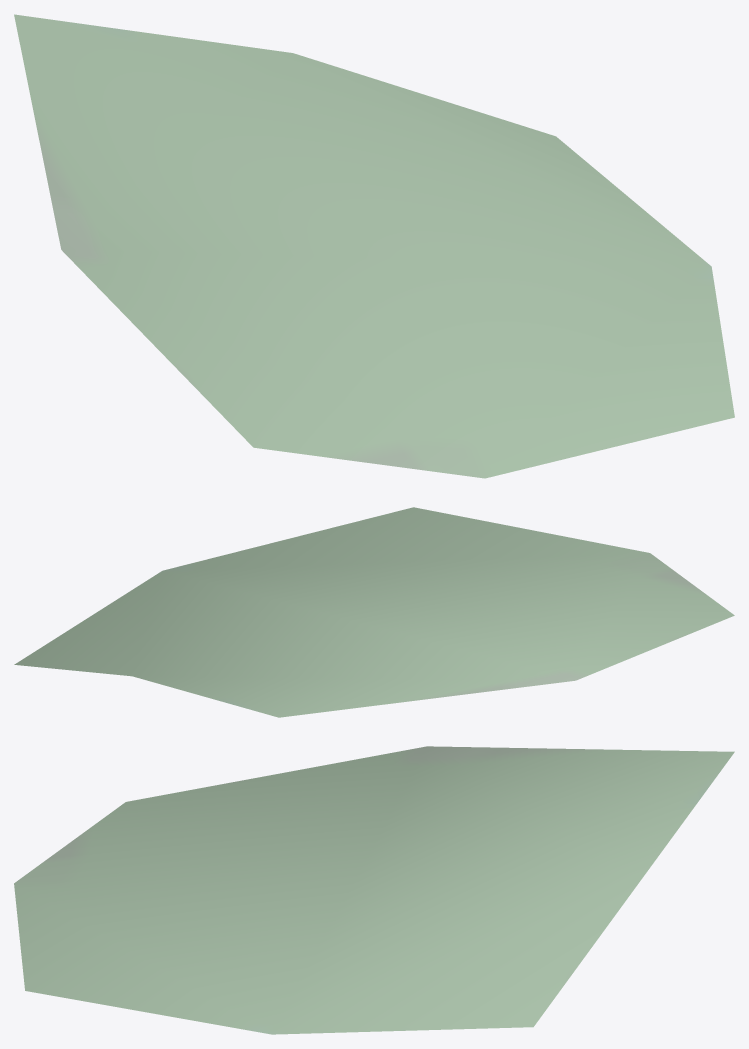
File: TROLLHOLE02_HOLECAP15.fbx
3 views of the same model, one above another, from view 1: azimuth 30°, elevation 25°; view 2: azimuth 150°, elevation 25°; view 3: azimuth 270°, elevation 25° (orthographic). The views are drawn at different scales.
Parts seen in each view (by area): view 1: TROLLHOLE02_HOLECAP15; view 2: TROLLHOLE02_HOLECAP15; view 3: TROLLHOLE02_HOLECAP15.
Part boxes in pixels (x1=…): TROLLHOLE02_HOLECAP15: x1=14, y1=14, x2=734, y2=478; TROLLHOLE02_HOLECAP15: x1=14, y1=507, x2=734, y2=717; TROLLHOLE02_HOLECAP15: x1=14, y1=746, x2=734, y2=1034.
Bounding box in the file's own units: 26362 × 6925 × 36044.
Materials: 1 (1 with a texture image).
